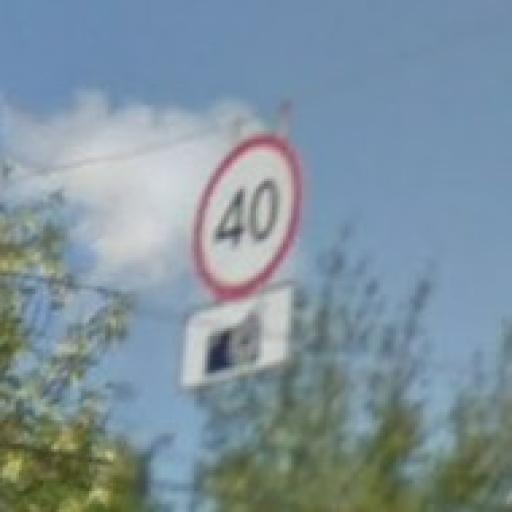traffic_sign: (190, 132, 306, 306)
